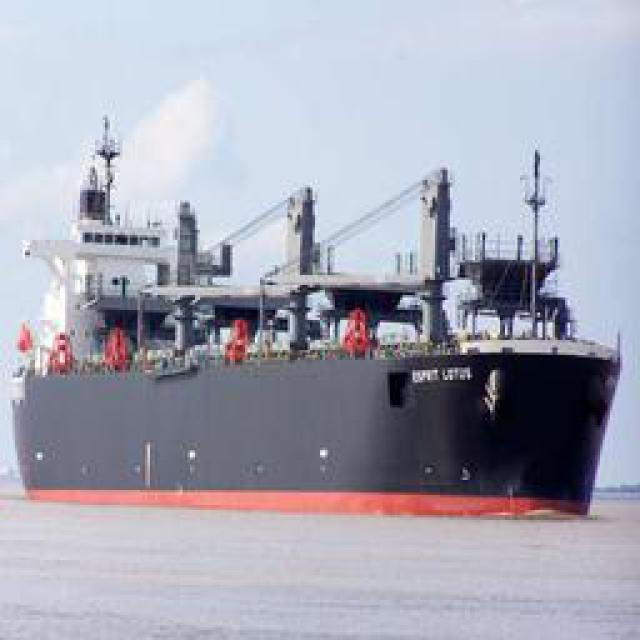Ship: (14, 124, 619, 507)
